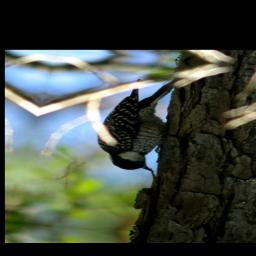Woodpecker: (86, 73, 185, 173)
